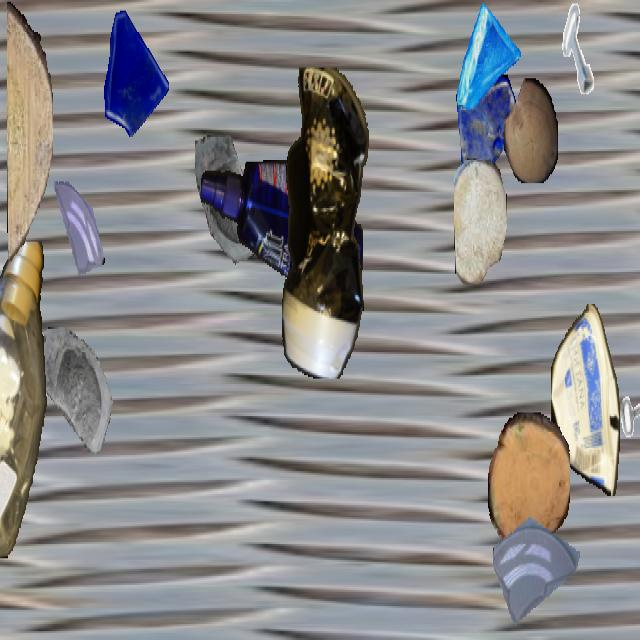glass: (193, 135, 279, 288), (493, 486, 579, 638), (41, 323, 125, 473), (95, 2, 171, 137), (454, 75, 520, 192), (455, 2, 521, 119), (49, 180, 107, 282)
metal: (554, 2, 606, 94), (601, 343, 640, 446)
plastic: (282, 67, 370, 377), (201, 160, 363, 306), (0, 242, 49, 558), (551, 304, 619, 496)
wood: (7, 2, 53, 261), (488, 413, 570, 551), (454, 158, 506, 283), (504, 78, 558, 182)
